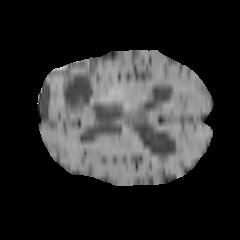glioma: (56, 67, 114, 121)
